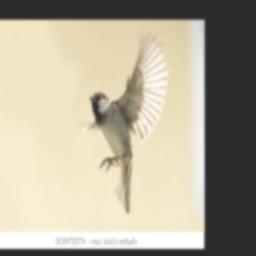Sparrow: (82, 30, 168, 213)
